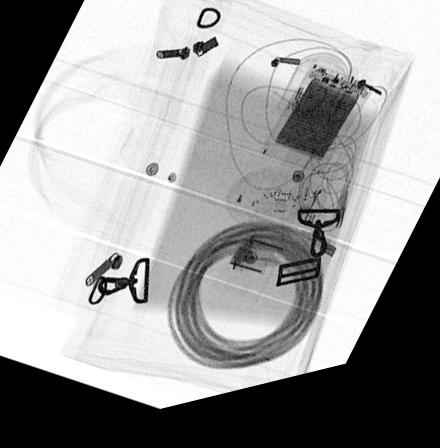Powerbank: (258, 77, 372, 194)
